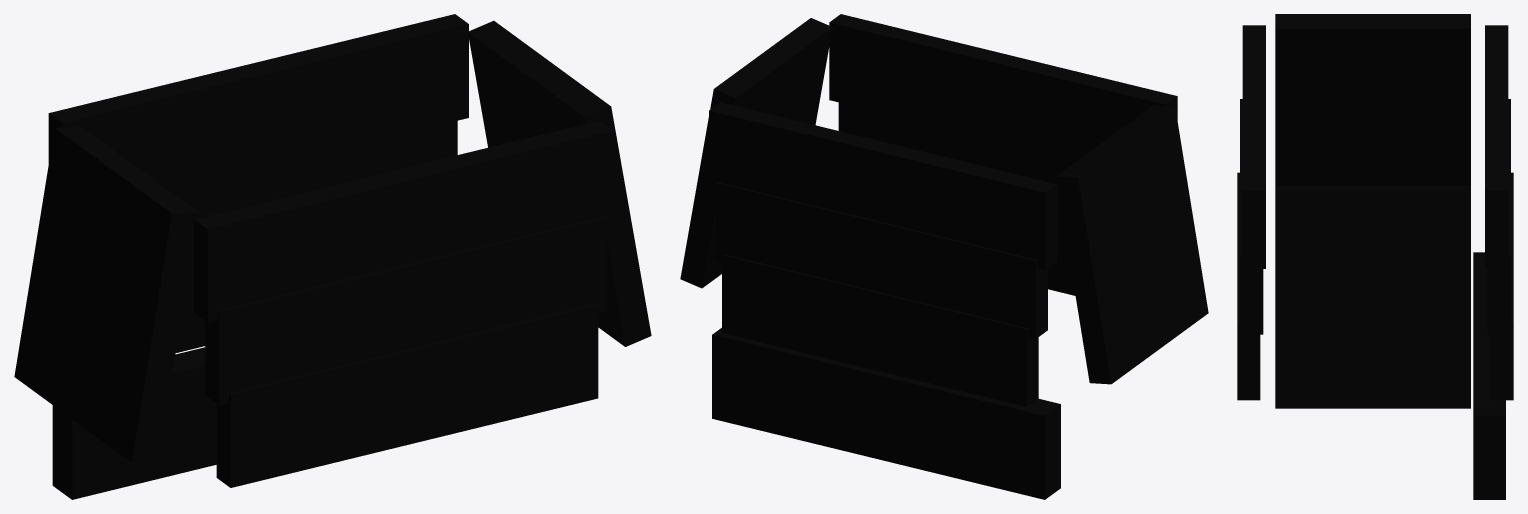
The model's file is workpiece_xuantie_leggings_ground.obj.
3 renders of one model, left to right at view 1: azimuth 30°, elevation 25°; view 2: azimuth 150°, elevation 25°; view 3: azimuth 270°, elevation 25°, orthographic. The views are drawn at different scales.
Parts seen in each view (by area): view 1: geometry; view 2: geometry; view 3: geometry.
Boxes of the visible parts, x1=… form: geometry: x1=14, y1=14, x2=651, y2=499; geometry: x1=680, y1=14, x2=1208, y2=499; geometry: x1=1237, y1=14, x2=1513, y2=499.
Size of the model in its own units: 0.6717 by 0.4664 by 0.3713.
